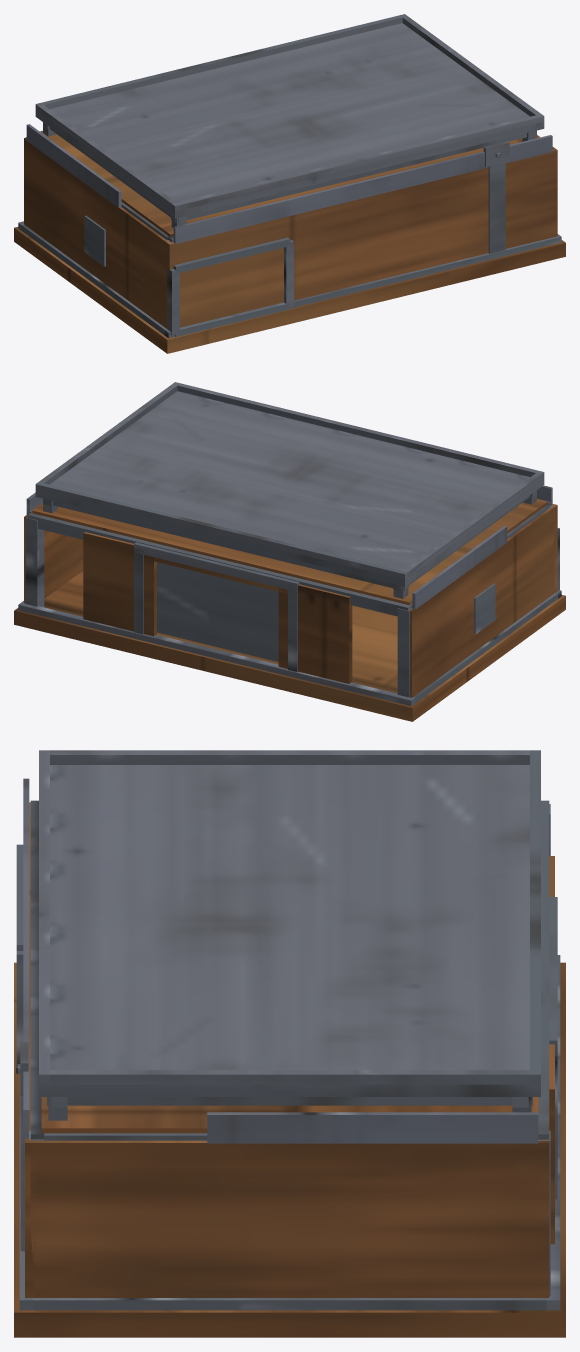
3 renders of one model, top to bottom at view 1: azimuth 30°, elevation 25°; view 2: azimuth 150°, elevation 25°; view 3: azimuth 270°, elevation 25°, orthographic. The views are drawn at different scales.
Visible parts, largest first — view 1: SM_HDBF_BoxFarm_Advanced_LOD2; view 2: SM_HDBF_BoxFarm_Advanced_LOD2; view 3: SM_HDBF_BoxFarm_Advanced_LOD2.
Boxes of the visible parts, x1,y1,x2,y2 form: SM_HDBF_BoxFarm_Advanced_LOD2: (14, 14, 565, 353); SM_HDBF_BoxFarm_Advanced_LOD2: (14, 382, 565, 721); SM_HDBF_BoxFarm_Advanced_LOD2: (14, 750, 565, 1337).
Size of the model in its own units: 3 by 1 by 2.
4 materials, 4 textured.
